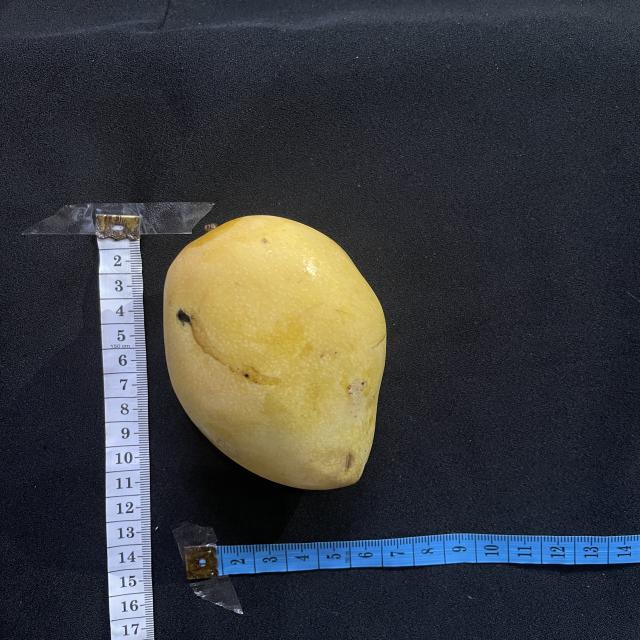Ripe: (163, 215, 386, 490)
